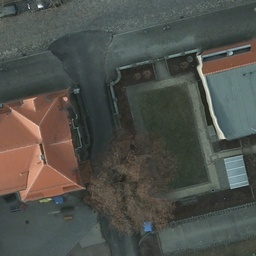car: (26, 0, 61, 13), (0, 4, 18, 20)
